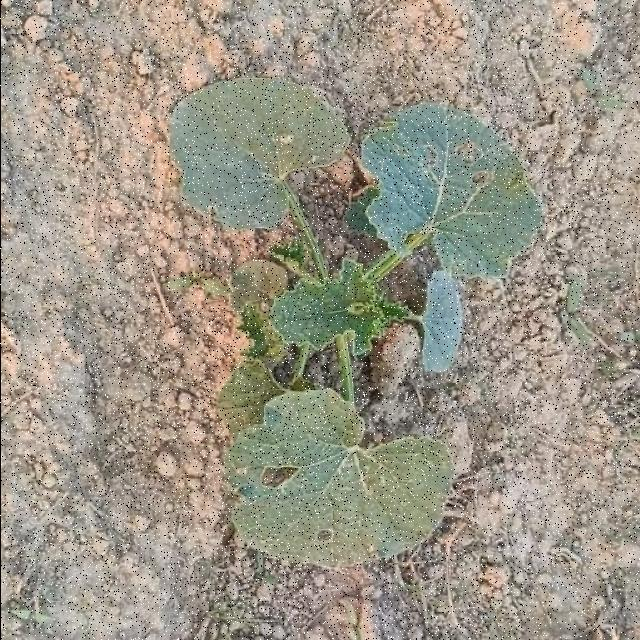plant: (269, 102, 541, 372), (219, 363, 452, 566), (169, 78, 346, 226)
